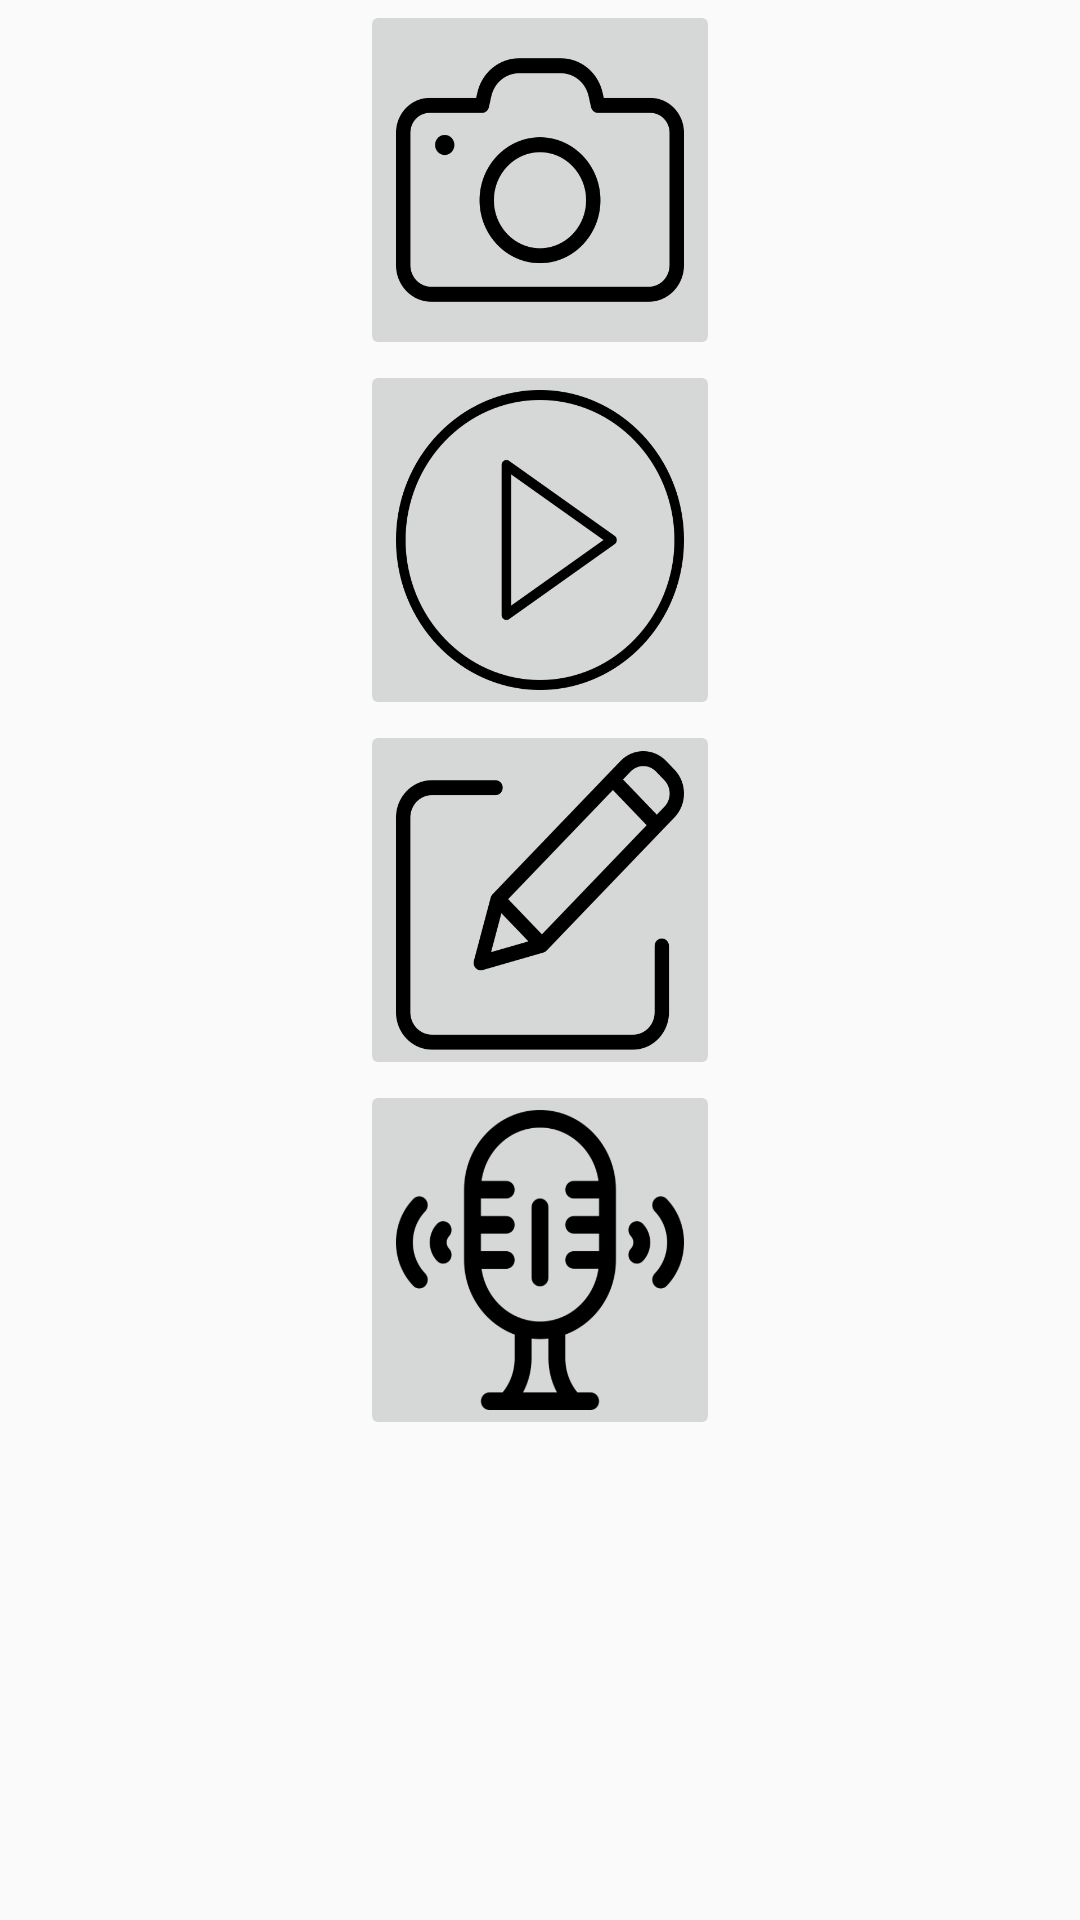

Named icons in this screenshot (1080 x 1920) and their centers, (x,y):
edit: (540,900)
microphone: (540,1260)
photocamera: (540,180)
playbutton: (540,540)
